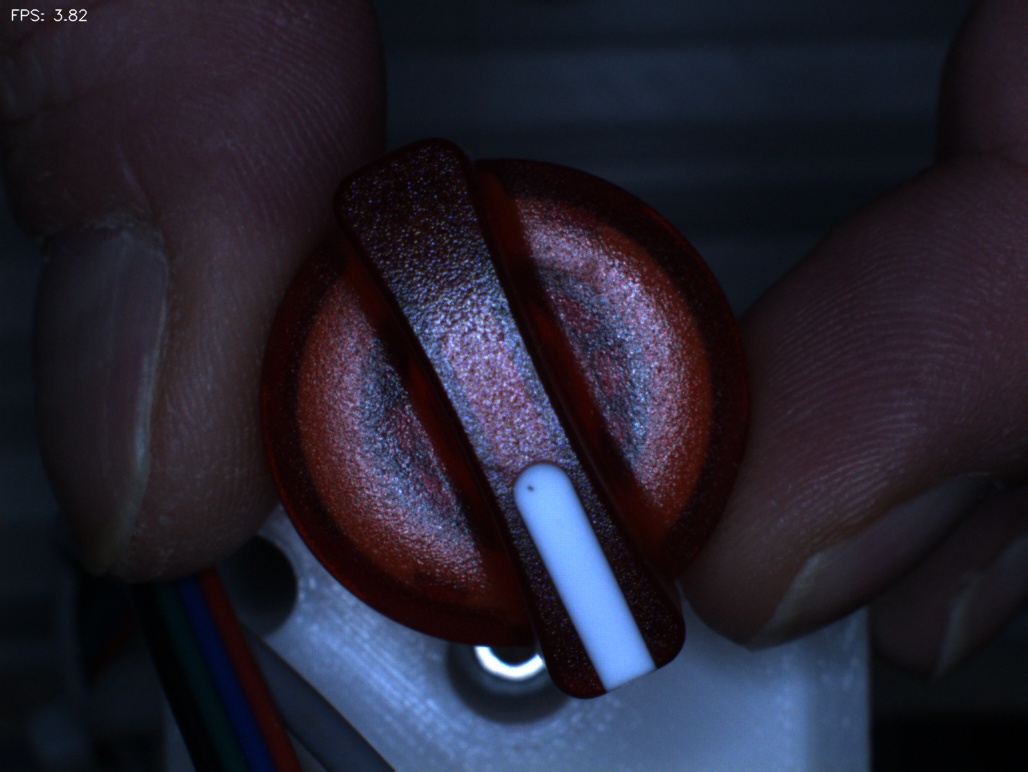PointNoir: (501, 457, 568, 524)
